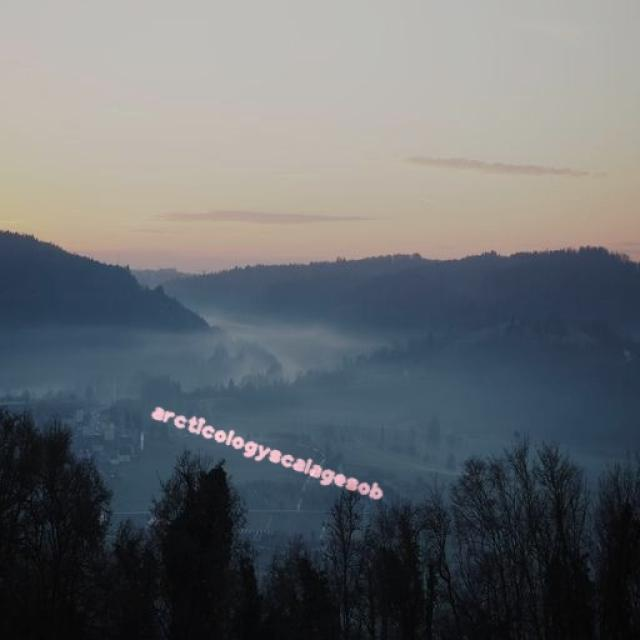watermark: (145, 401, 395, 504)
